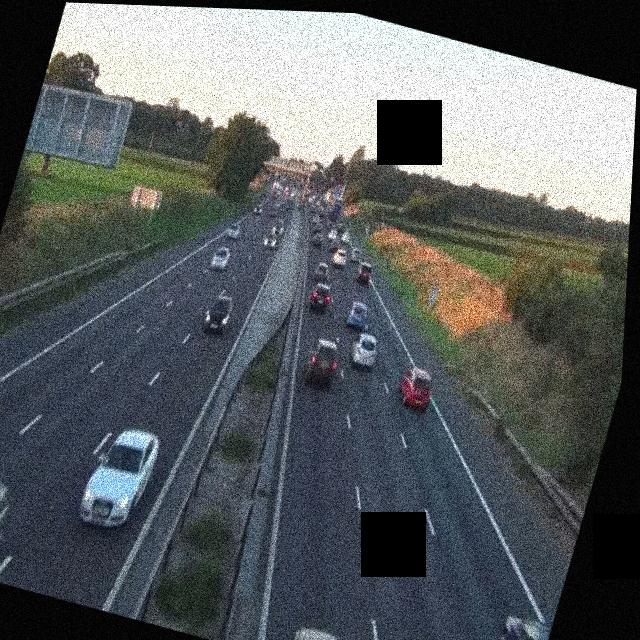car: (77, 419, 163, 535), (301, 334, 343, 389), (480, 609, 552, 640), (394, 363, 438, 411), (0, 464, 18, 581), (201, 288, 237, 336), (284, 623, 368, 640), (347, 332, 380, 372), (342, 297, 371, 332), (307, 279, 335, 314), (210, 242, 231, 272), (311, 260, 334, 285), (353, 259, 375, 285), (329, 244, 349, 269), (262, 228, 279, 249), (227, 218, 242, 238), (347, 246, 363, 264), (311, 229, 325, 247), (272, 219, 286, 236), (253, 203, 263, 217)
truck: (271, 178, 284, 198)
